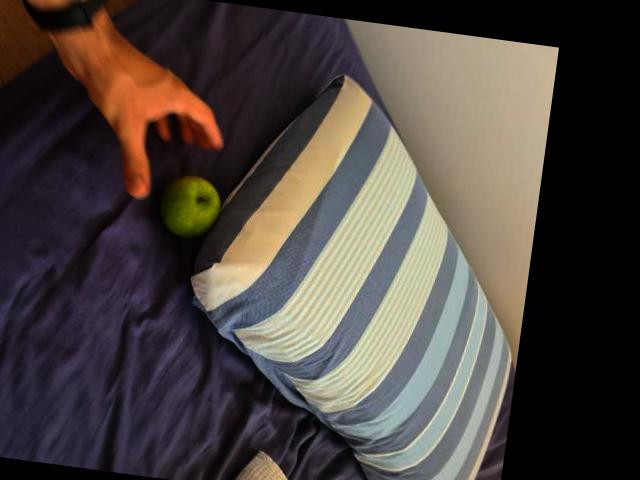apple: (153, 179, 224, 234)
